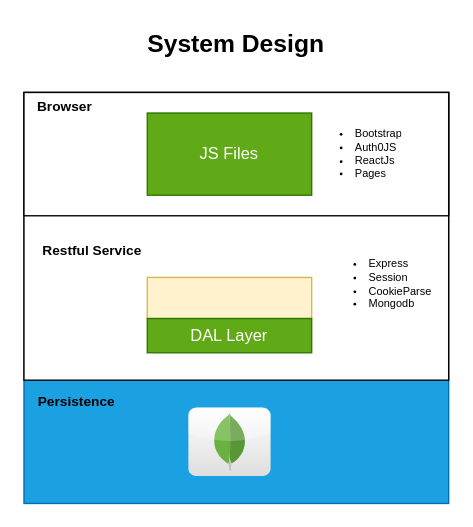
The diagram is 473 pixels wide and 527 high, and some of its shapes have lost their labels. Each missing label, with the centre of its shape:
MongoDB: (229,441)
Restful APIs: (229,297)
